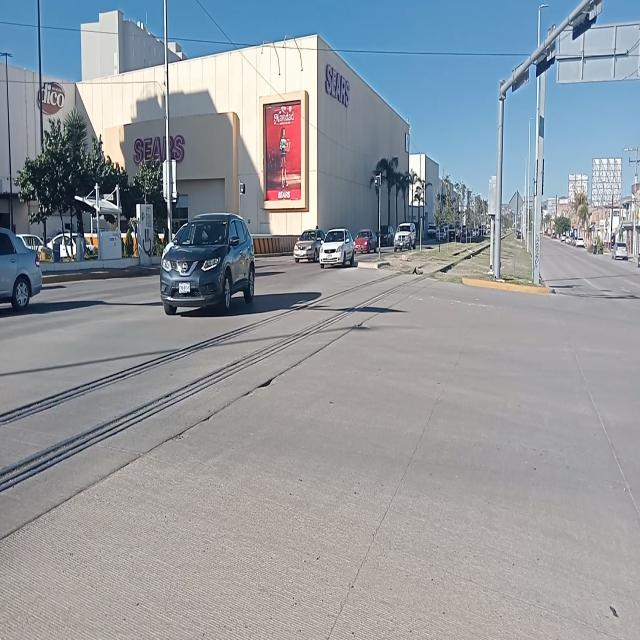Auto: (158, 211, 257, 318), (318, 227, 356, 272), (392, 218, 418, 254), (354, 226, 378, 254)
